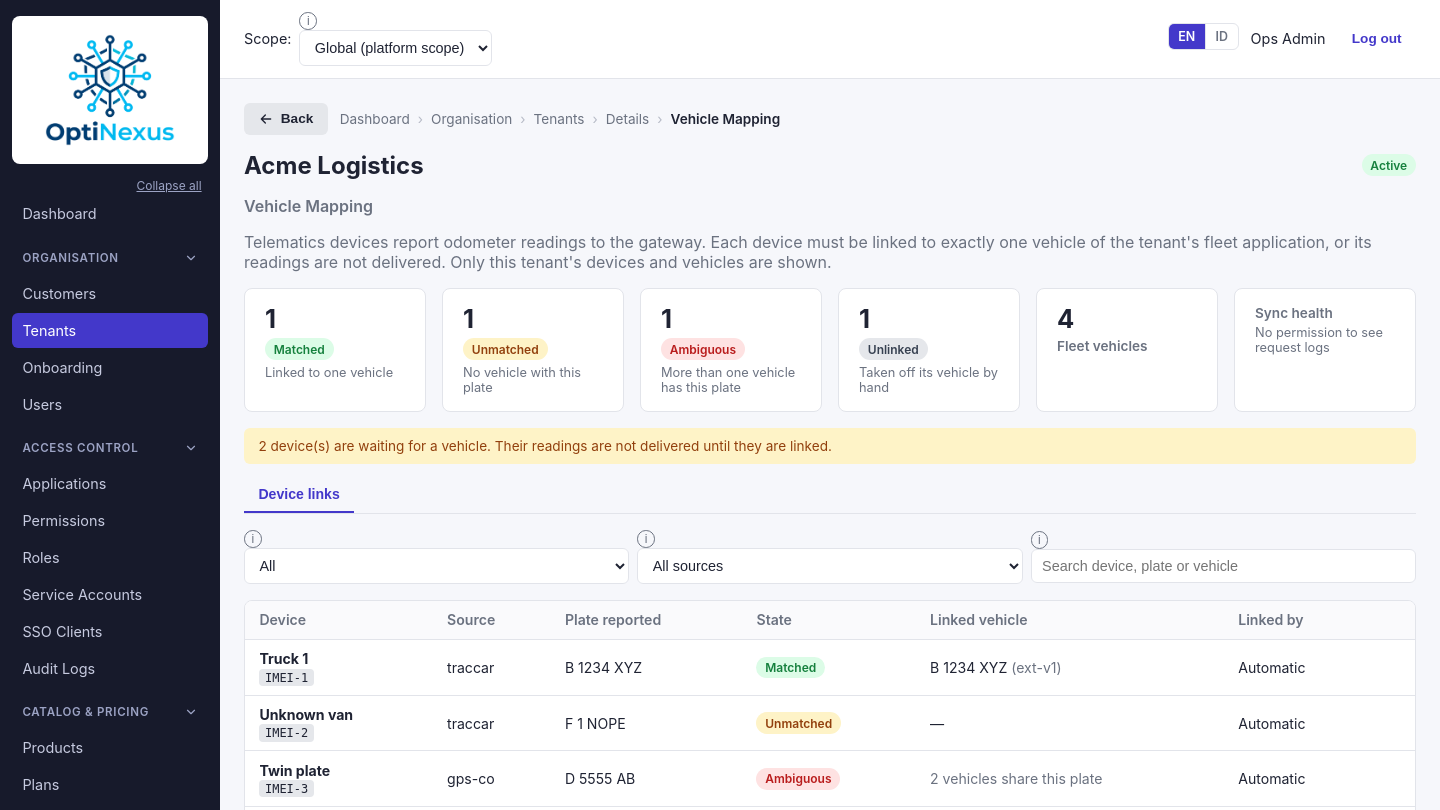
Scenario: vehicle mapping page › filters by mapping state, source and text
The width and height of the screenshot is (1440, 810).
Expected: the text "Truck 1" is shown, [259, 650, 308, 667]
Select "Ambiguous" in the dropdown named "Mapping state" at (437, 566), box [244, 548, 629, 584]
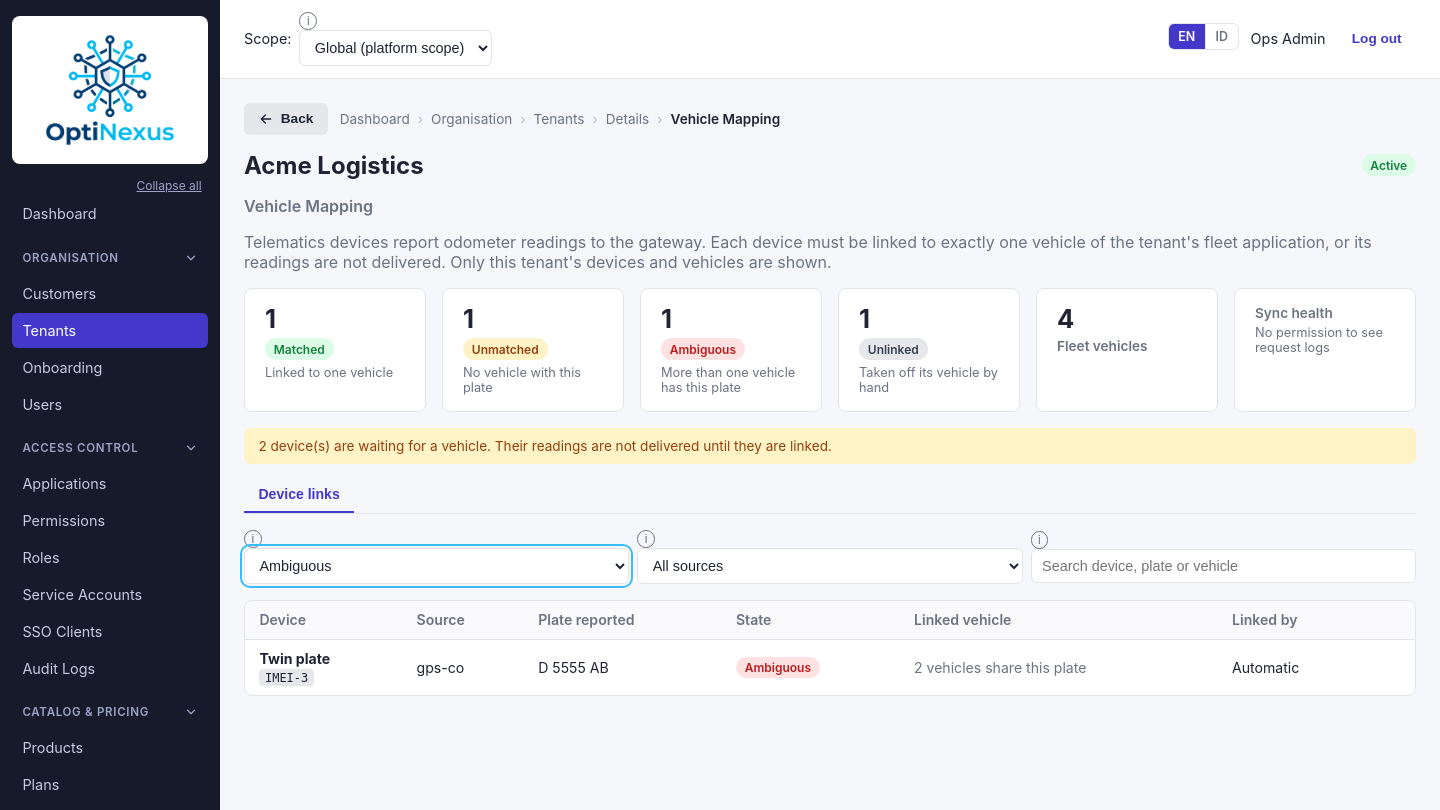
Expected: the text "Twin plate" is shown, [259, 650, 330, 667]
Expected: the text "Truck 1" is gone
Select "All" in the dropdown named "Mapping state" at (437, 566), box [244, 548, 629, 584]
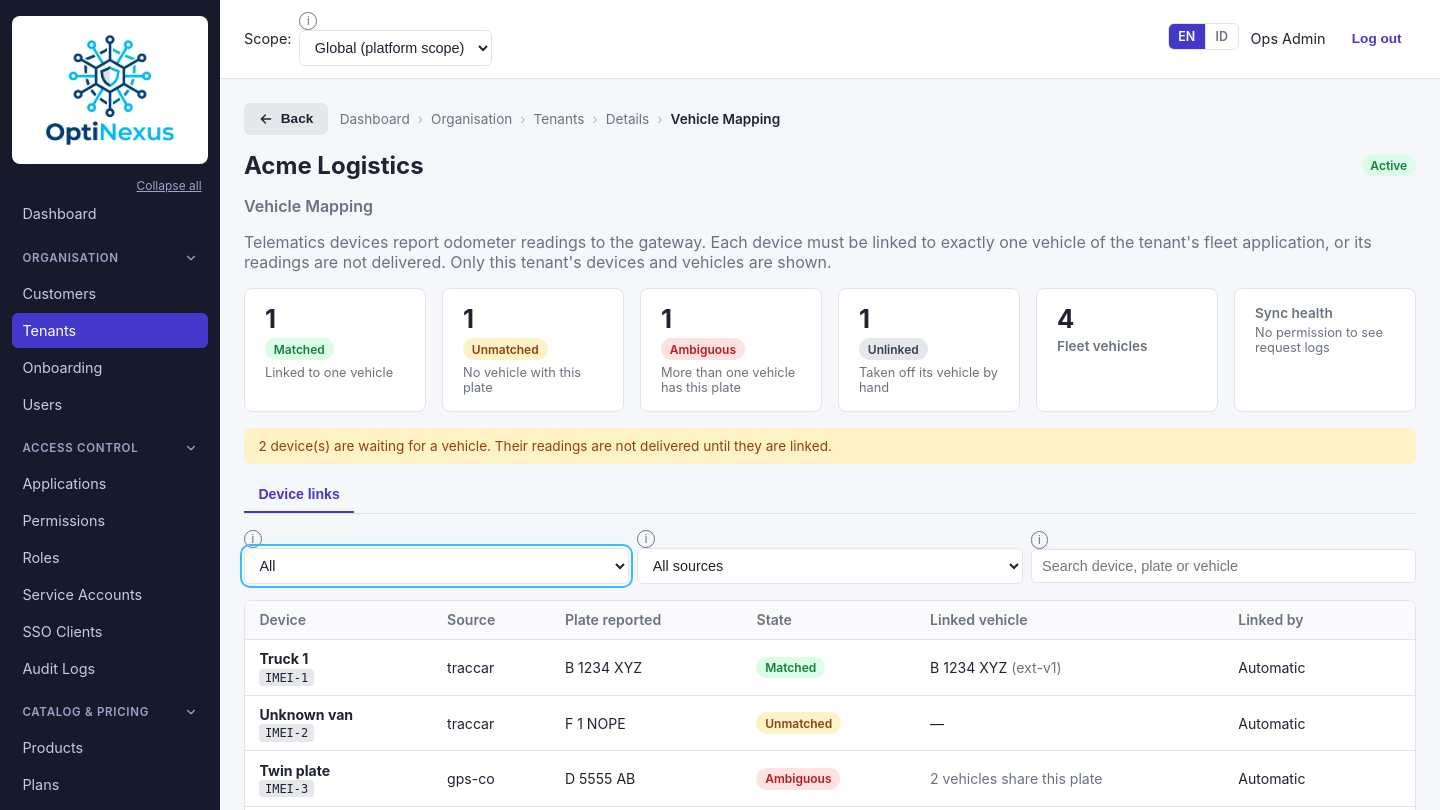
Select "gps-co" in the dropdown named "Telematics source" at (830, 566), box [637, 548, 1023, 584]
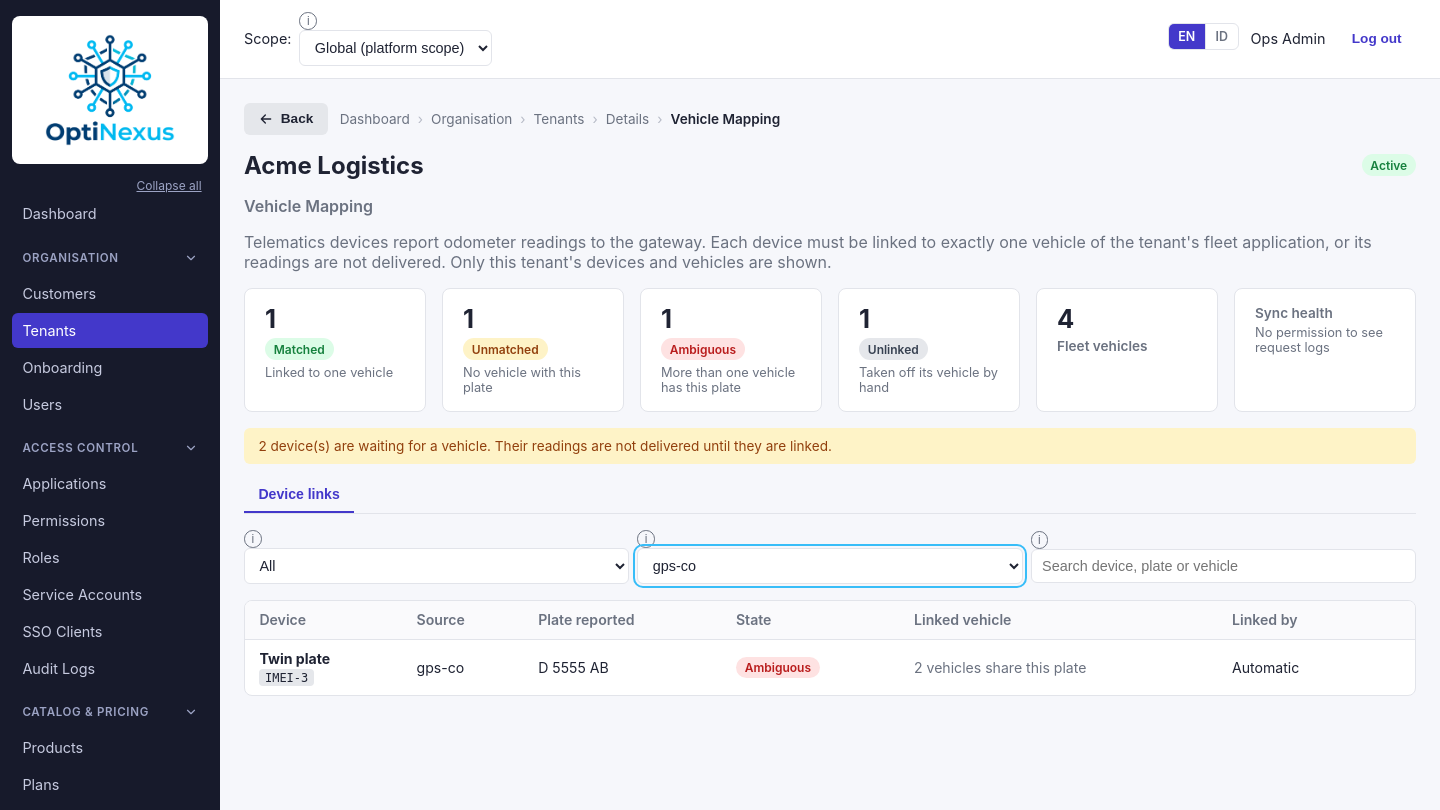
Expected: the text "Unknown van" is gone
Select "All sources" in the dropdown named "Telematics source" at (830, 566), box [637, 548, 1023, 584]
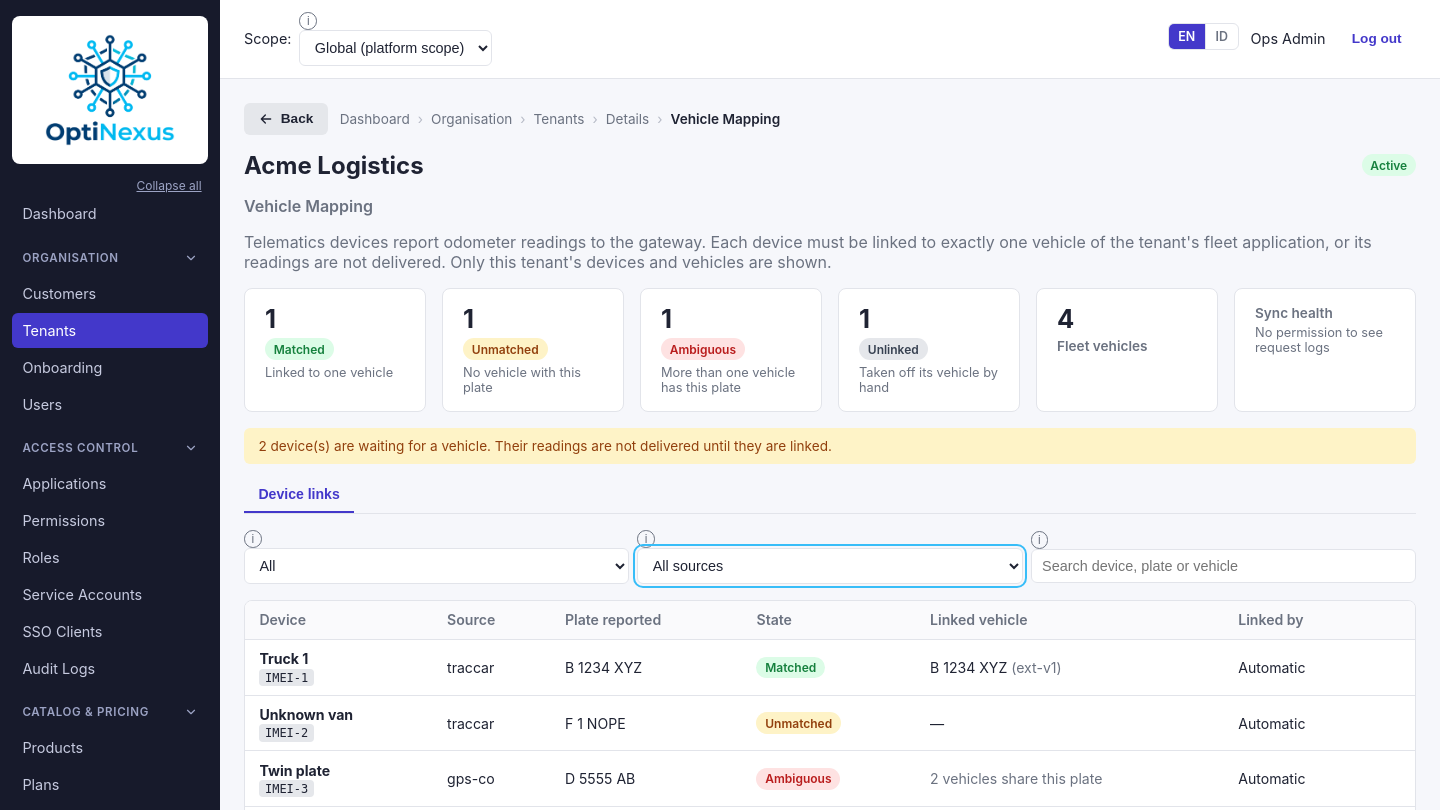
Type "b1234" into the search field labelled "Search device, plate or vehicle" at (1223, 566), box [1031, 549, 1416, 583]
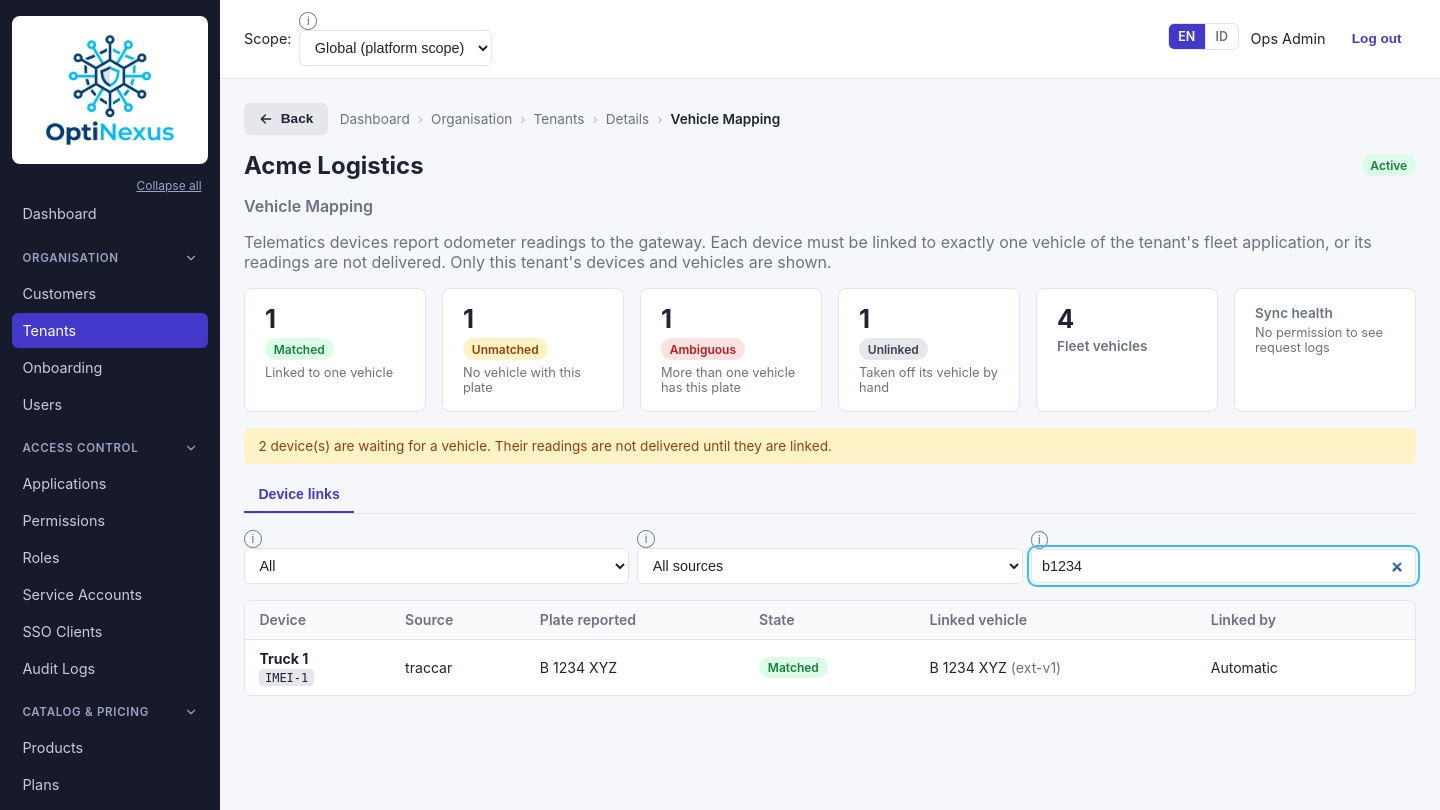
Expected: the text "Truck 1" is shown, [259, 650, 308, 667]
Expected: the text "Twin plate" is gone
Replace the text in the search field named "Search device, plate or vehicle" with "nothing-like-this" at (1223, 566), box [1031, 549, 1416, 583]
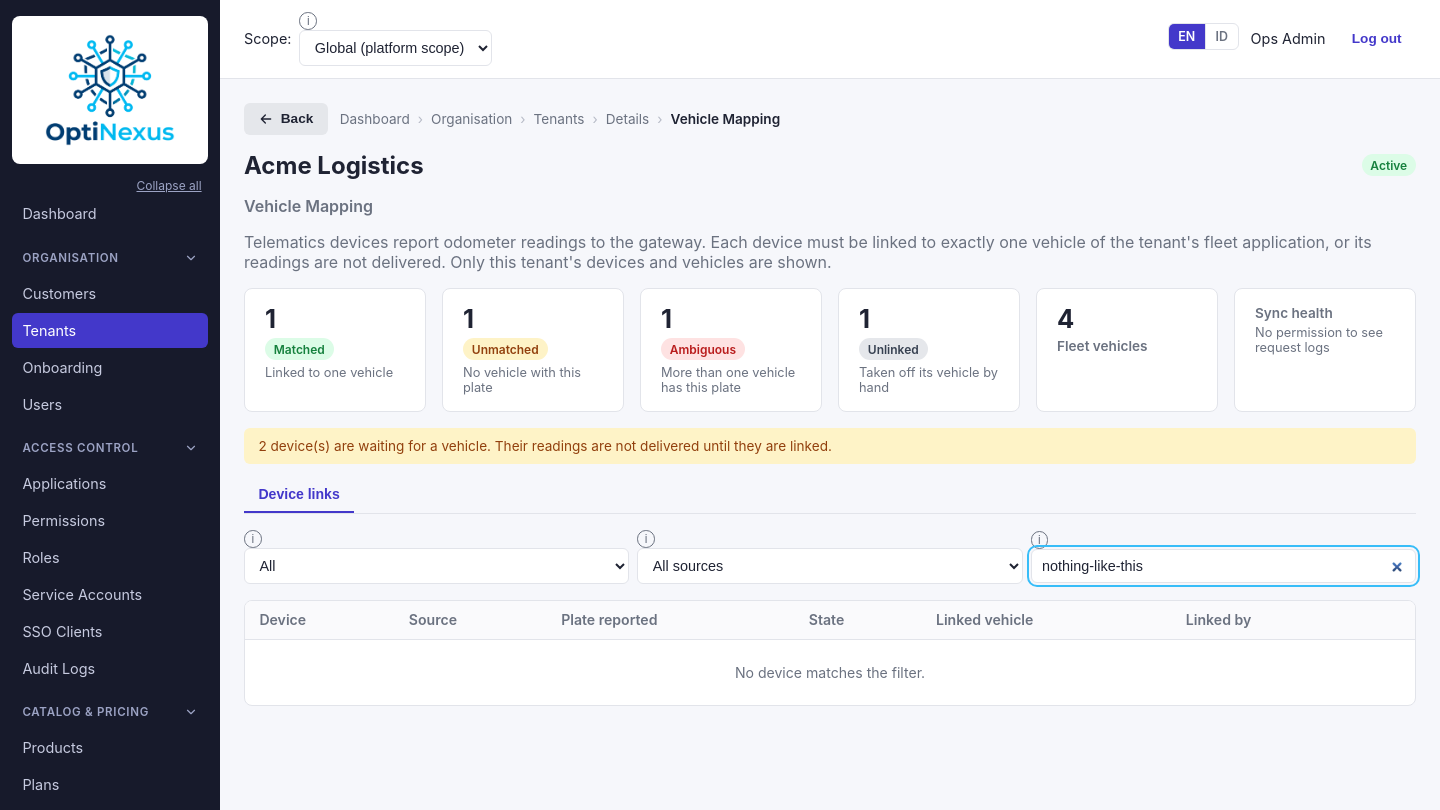
Expected: the text "No device matches the filter." is shown, [245, 639, 1415, 705]
